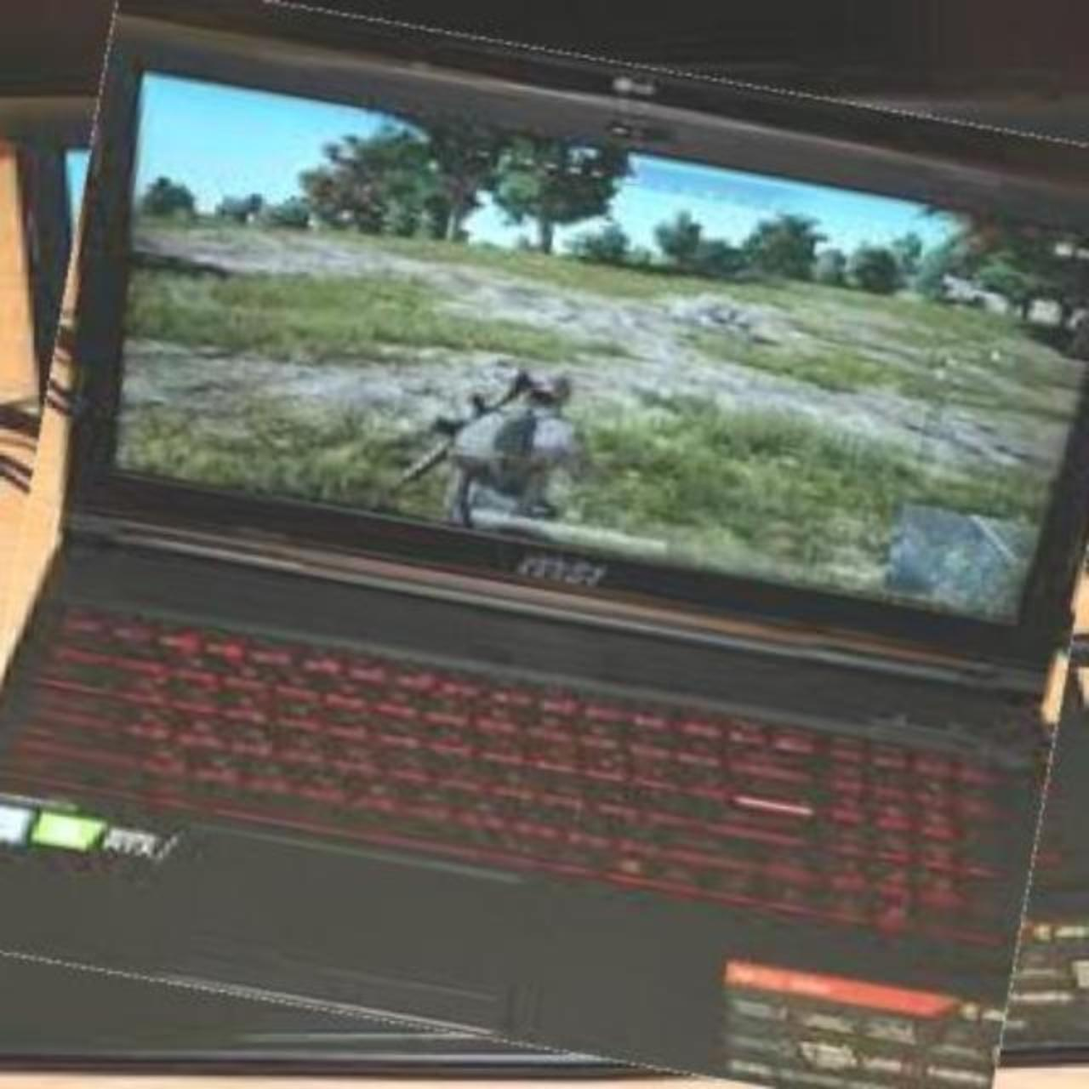laptop: (0, 16, 1089, 1083)
